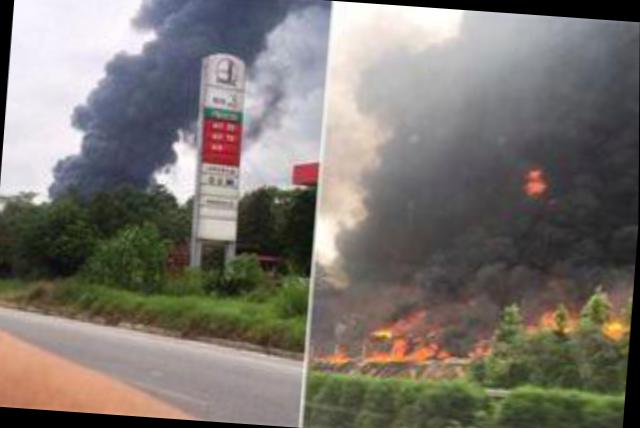fire: (365, 340, 444, 364), (526, 166, 552, 195)
